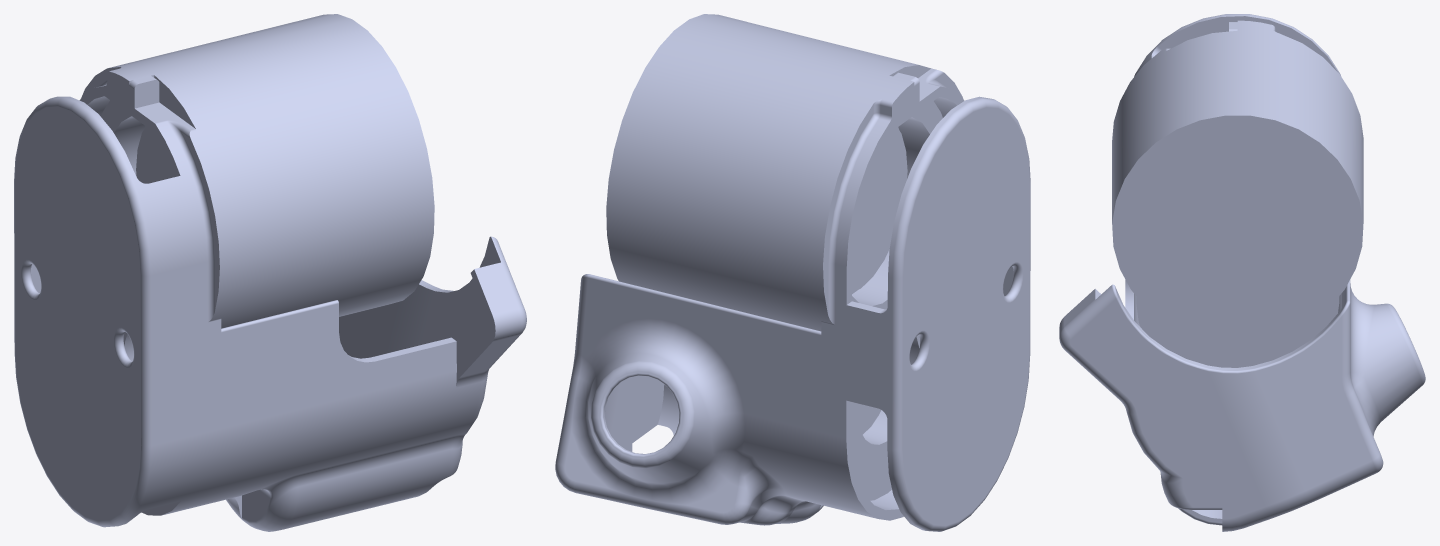
File: hand_1.obj
3 renders of one model, left to right at view 1: azimuth 30°, elevation 25°; view 2: azimuth 150°, elevation 25°; view 3: azimuth 270°, elevation 25°, orthographic. The views are drawn at different scales.
Parts seen in each view (by area): view 1: Body1; view 2: Body1; view 3: Body1.
Boxes of the visible parts, x1,y1,x2,y2 form: Body1: (14, 14, 526, 531); Body1: (555, 14, 1030, 531); Body1: (1059, 14, 1425, 531).
Size of the model in its own units: 0.0773 by 0.0989 by 0.083.
